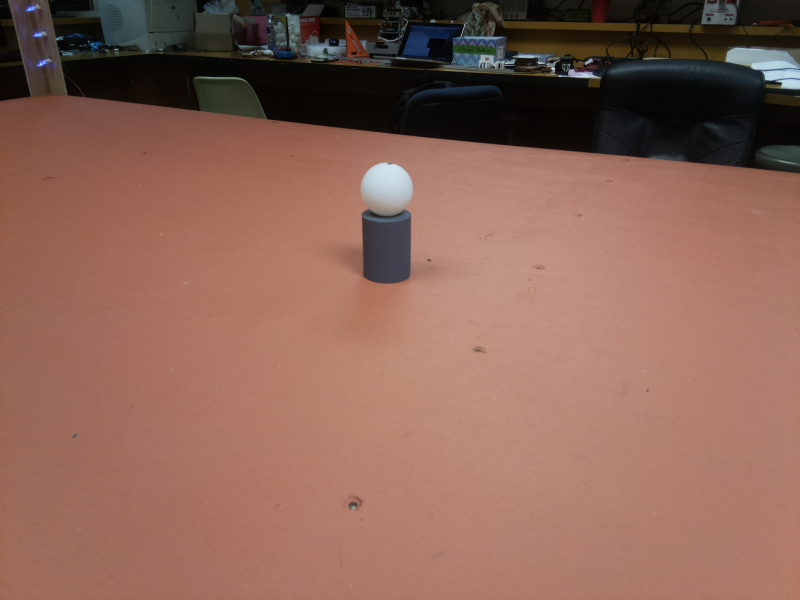obstacle: (359, 163, 414, 288)
